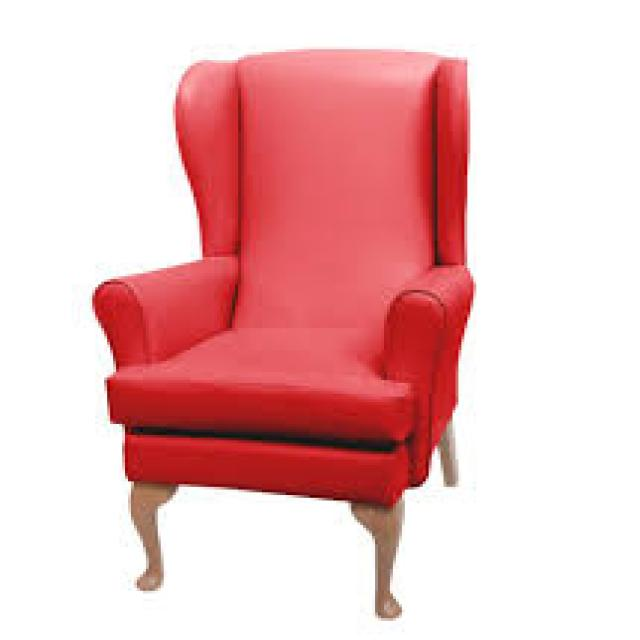chair: (73, 39, 538, 628)
